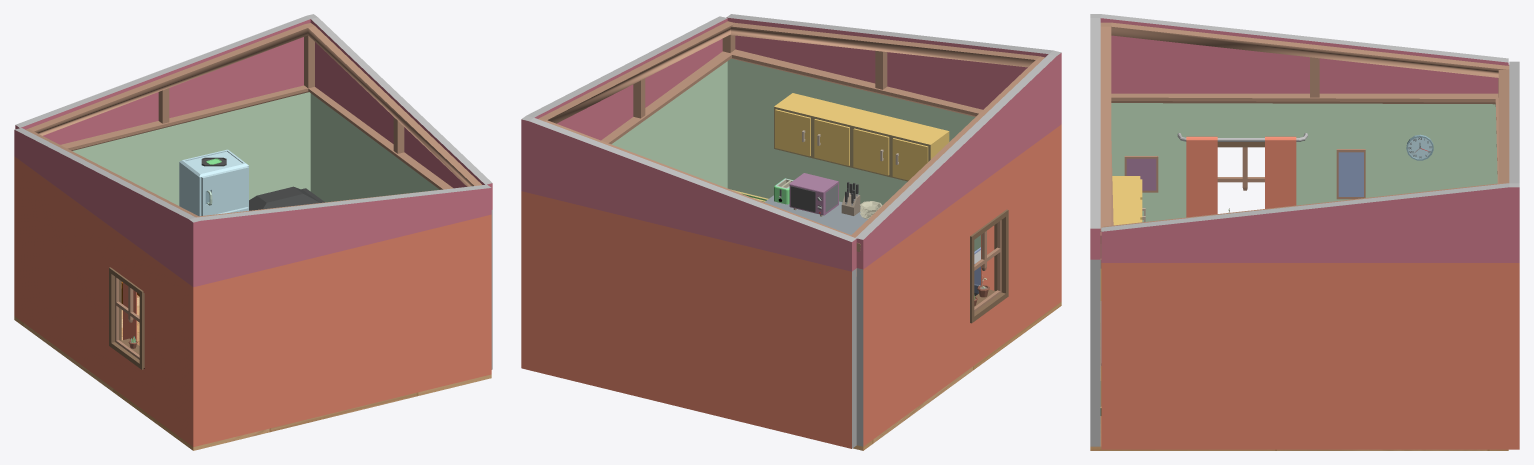
Rendered from _ChirpyWinged_Chirpy Winged_House.fbx.
3 renders of one model, left to right at view 1: azimuth 30°, elevation 25°; view 2: azimuth 150°, elevation 25°; view 3: azimuth 270°, elevation 25°, orthographic. The views are drawn at different scales.
Visible parts, largest first — view 1: Nha, Tulanh, Bang chuyen; view 2: Nha, Bep; view 3: Nha, Bep.
Part boxes in pixels (x1,y1,x2,y2): Nha: (14,14,492,450); Tulanh: (179,149,248,216); Bang chuyen: (249,186,324,210); Nha: (521,14,1061,450); Bep: (764,93,949,234); Nha: (1090,14,1519,450); Bep: (1100,176,1145,416).
Size of the model in its own units: 9.11 by 6.53 by 9.48.
12 materials, 6 textured.
